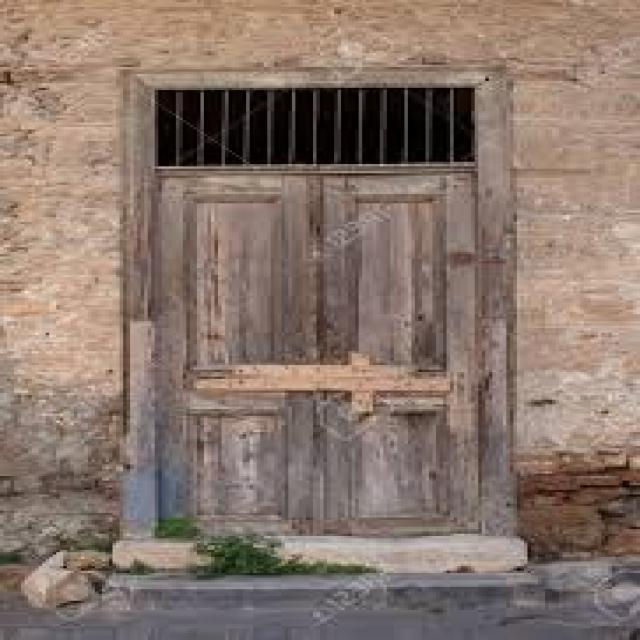Door: (141, 86, 503, 536)
